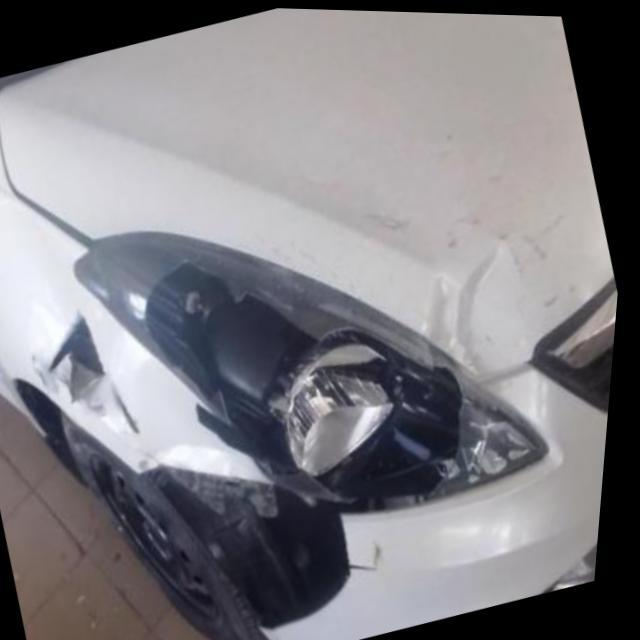crack: (41, 305, 150, 440)
dent: (424, 255, 499, 373)
no part: (142, 463, 361, 629)
